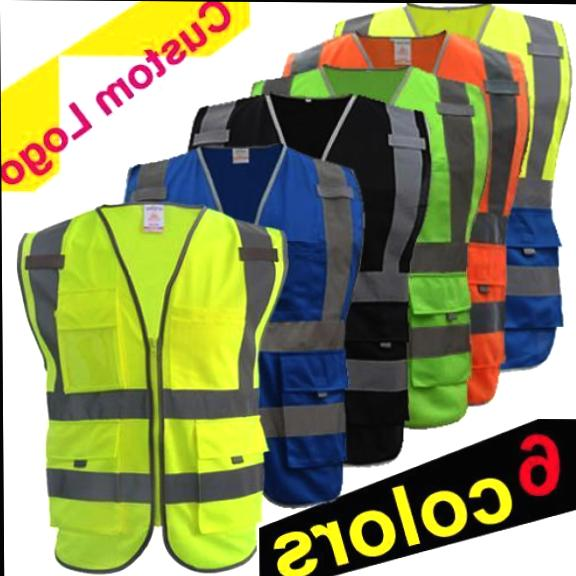safety_vest: (19, 202, 294, 572), (285, 33, 534, 407), (186, 95, 434, 465), (251, 62, 496, 430), (332, 5, 576, 369), (121, 146, 368, 505)
